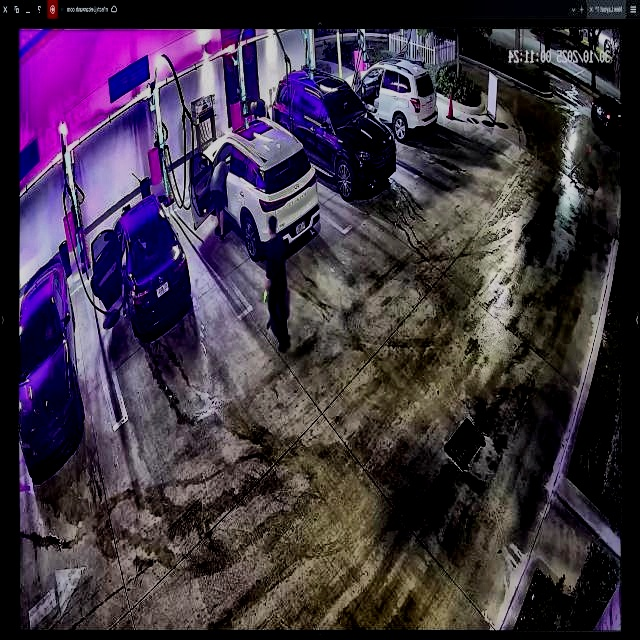Car: (193, 114, 319, 269), (272, 67, 400, 189), (90, 195, 194, 340)
